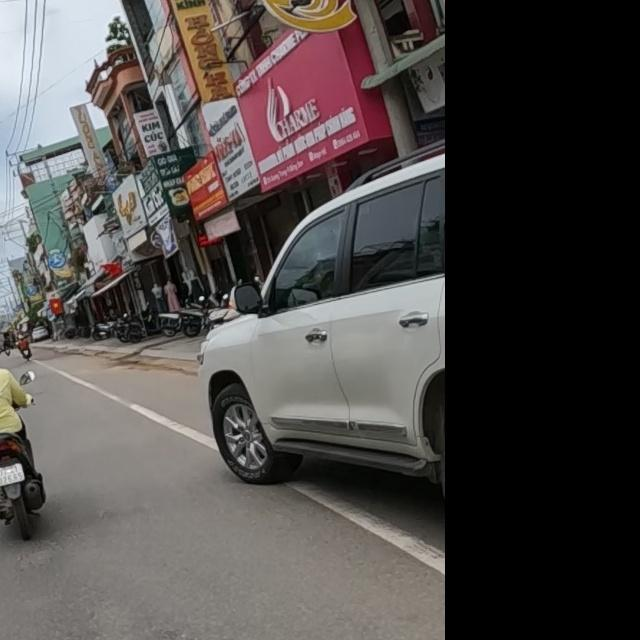license-plate: (0, 463, 27, 489)
